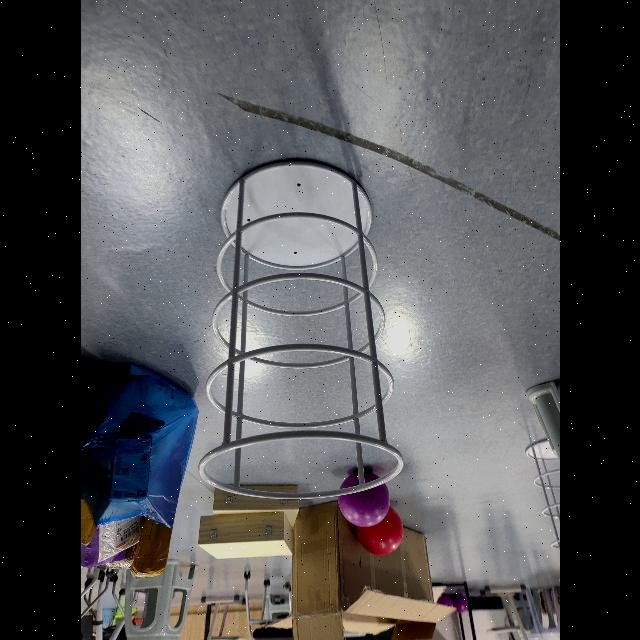S: (196, 157, 404, 501)
